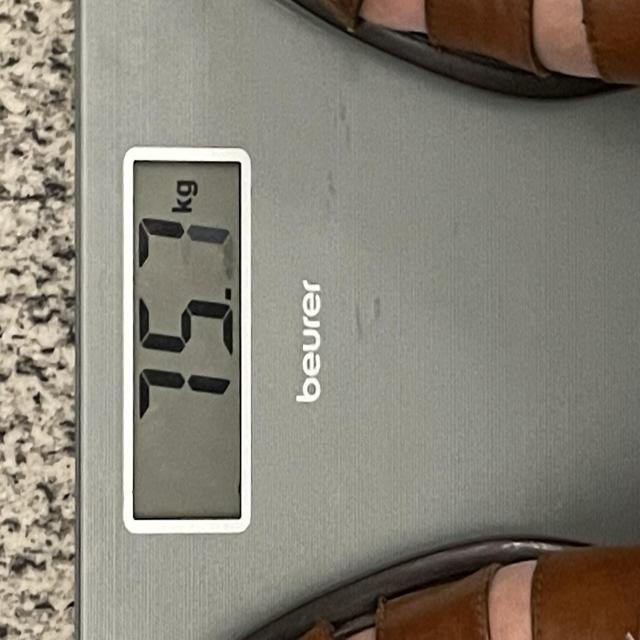ws: (121, 149, 252, 539)
